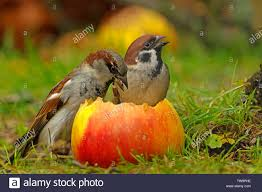home_sparrow: (8, 45, 130, 168), (111, 29, 179, 108)
